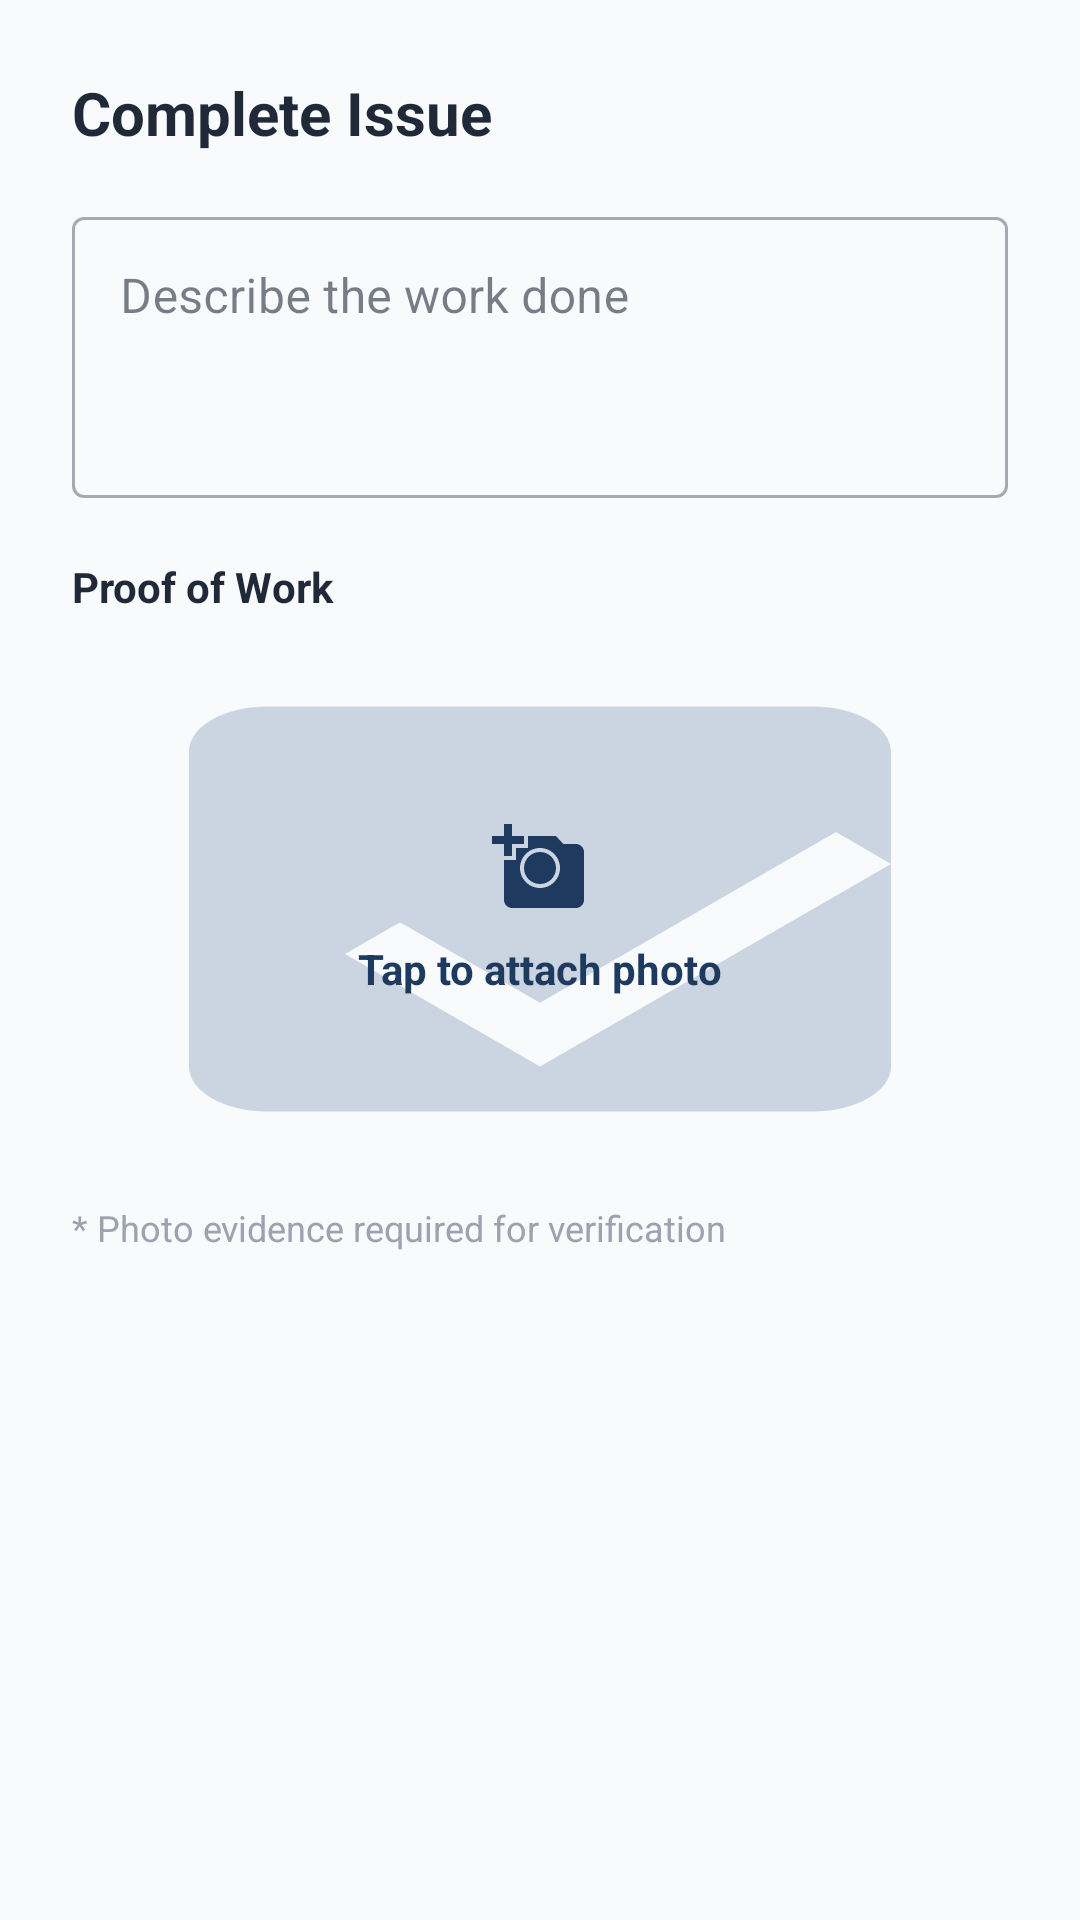

Icon bounding boxes for this 1080px×1920px phone screenshot, format (x1, y1, x2, y2):
add photo: (492, 824, 584, 908)
